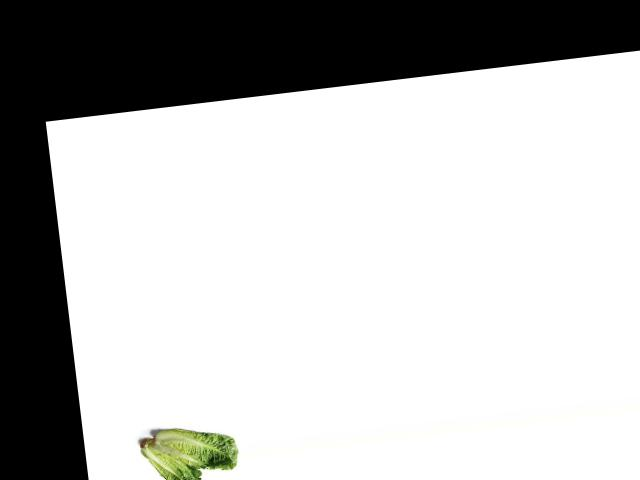lettuce: (134, 430, 204, 480)
